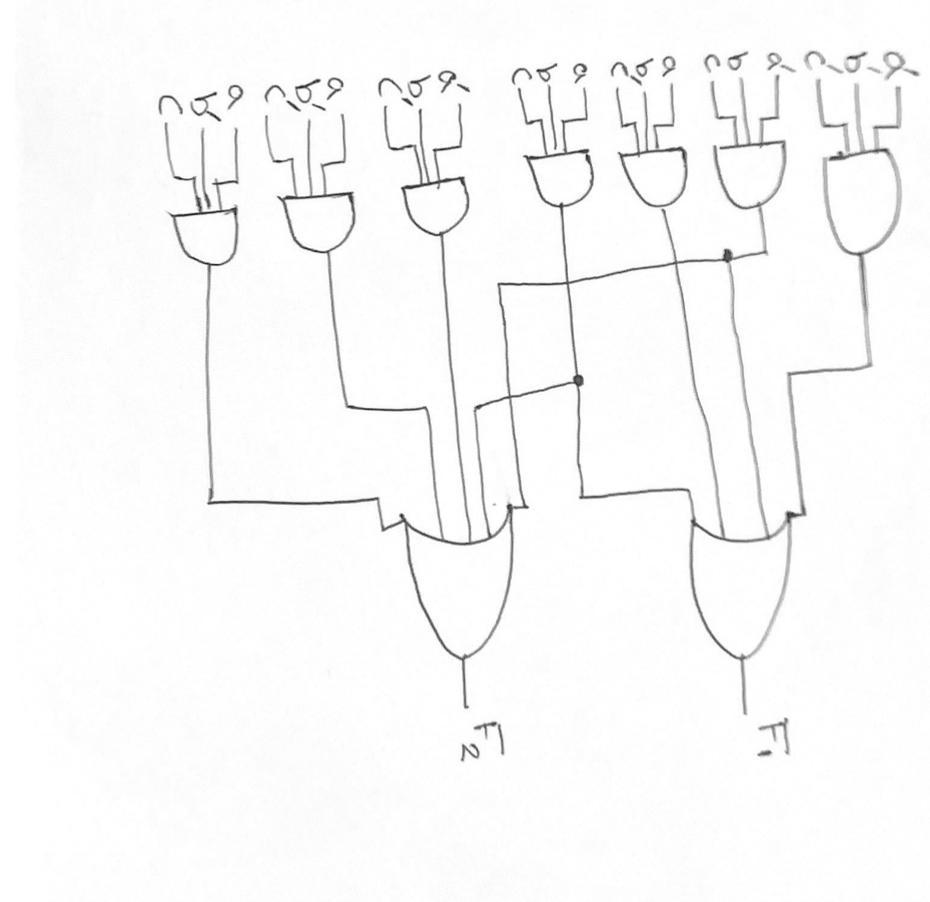AND: (817, 138, 906, 260), (273, 187, 374, 263), (708, 130, 793, 219), (153, 203, 255, 276), (516, 138, 601, 214), (614, 143, 698, 213), (395, 175, 481, 241)
OR: (360, 496, 556, 666), (673, 508, 823, 672)
